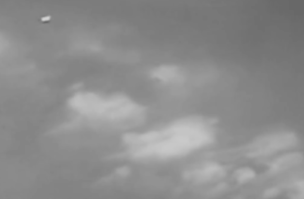Target: (42, 17, 50, 21)
